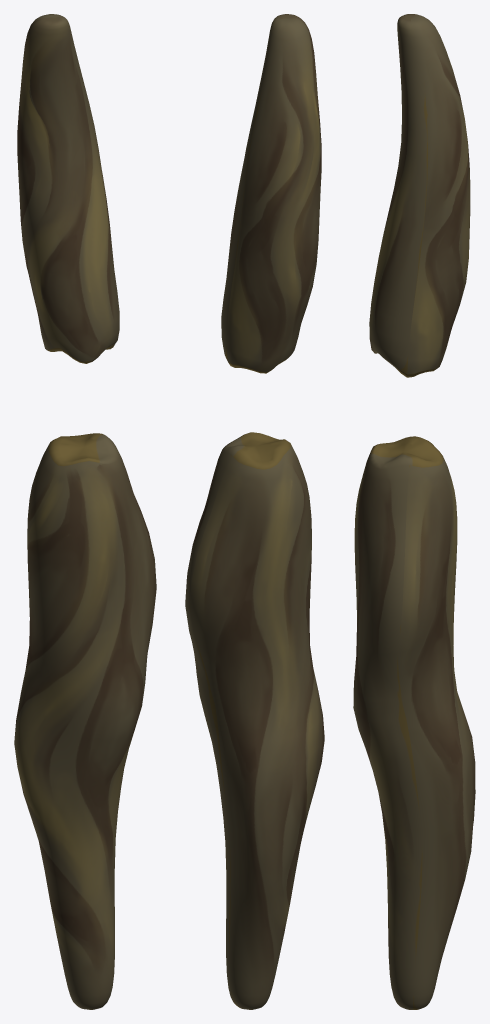
Rendered from BreakedBranch.fbx.
3 views of the same model, side by side, from view 1: azimuth 30°, elevation 25°; view 2: azimuth 210°, elevation 25°; view 3: azimuth 270°, elevation 25° (orthographic). The views are drawn at different scales.
Parts seen in each view (by area): view 1: BreakedBranch; view 2: BreakedBranch; view 3: BreakedBranch.
Part boxes in pixels (box(x1,y1,x2,y2)): BreakedBranch: box(14, 14, 156, 1009); BreakedBranch: box(185, 14, 324, 1009); BreakedBranch: box(353, 14, 475, 1009).
Size of the model in its own units: 135 by 1084 by 124.
Materials: 1 (1 with a texture image).
